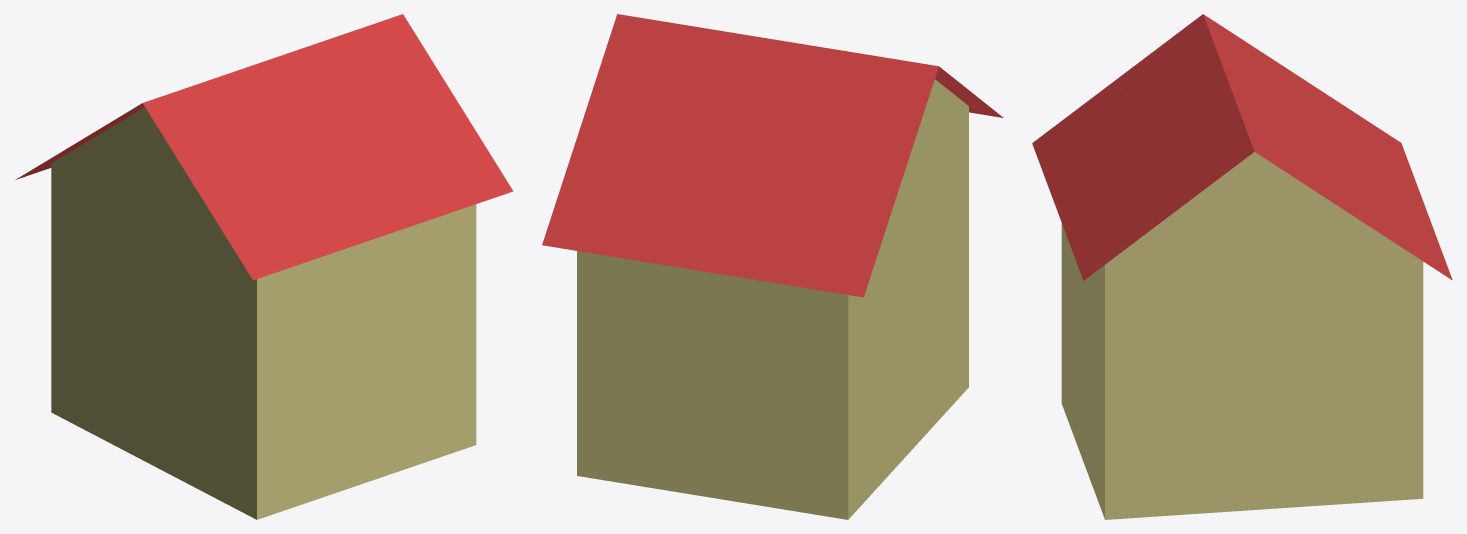
The picture shows the model from 3 angles, left to right: view 1: azimuth 30°, elevation 25°; view 2: azimuth 150°, elevation 25°; view 3: azimuth 270°, elevation 25°; orthographic projection. The views are drawn at different scales.
Size of the model in its own units: 11.11 by 12.16 by 11.78.
